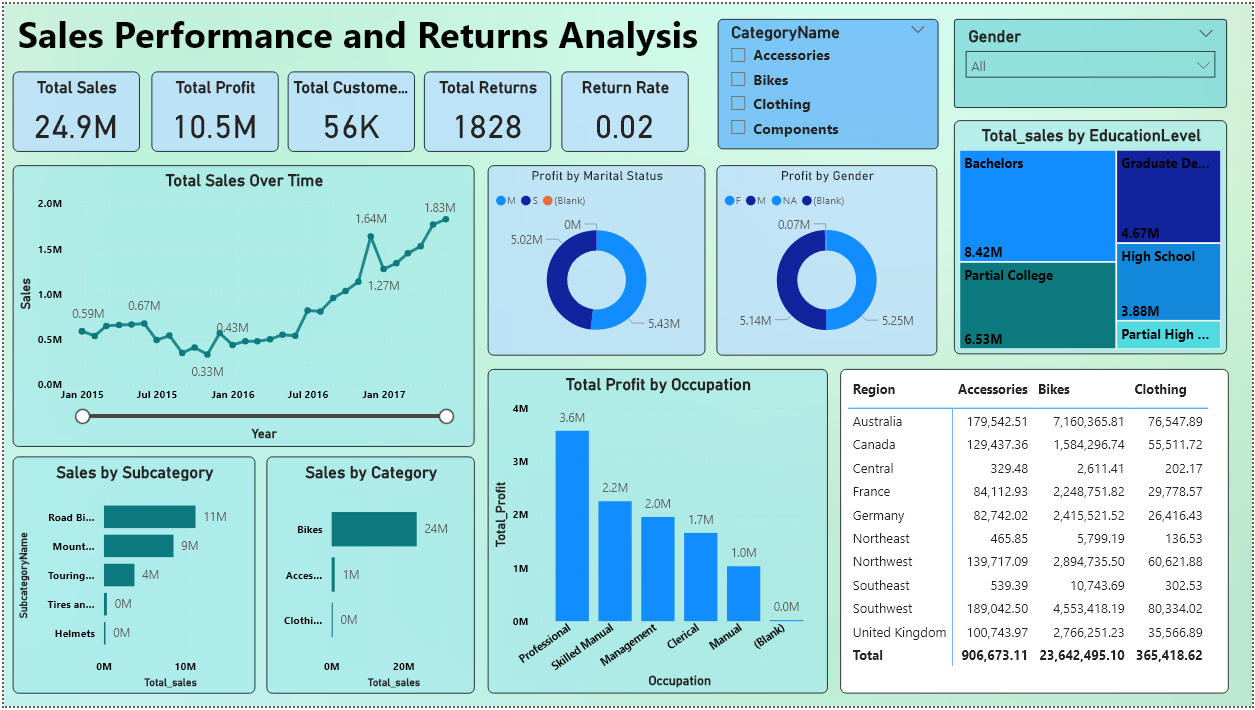

The dashboard page shown, as its layout file describes it:
{"tool":"powerbi","page":{"name":"Page 2","canvas":[1280,720],"ordinal":0},"visuals":[{"type":"card","title":"Total Sales","fields":{"Values":["Sales.Total_sales"]},"box":[9.6,68.7,130,82.2],"z":0},{"type":"card","title":"Total Profit","fields":{"Values":["Sales.Total_Profit"]},"box":[151,68.7,130,82.2],"z":1000},{"type":"textbox","box":[8.6,0,735,65],"z":2000},{"type":"lineChart","title":"Total Sales Over Time","fields":{"Y":["Sales.Total_sales"],"Category":["Calendar.Date.Variation.Date Hierarchy.Year","Calendar.Date.Variation.Date Hierarchy.Quarter","Calendar.Date.Variation.Date Hierarchy.Month"]},"box":[8.5,165,473.6,288.7],"z":3000},{"type":"barChart","title":"Sales by Category","fields":{"Y":["Sales.Total_sales"],"Category":["ProductCategories.CategoryName"]},"box":[268.8,463.6,213.3,243.2],"z":4000},{"type":"clusteredBarChart","title":"Sales by Subcategory","fields":{"Category":["ProductSubcategories.SubcategoryName"],"Y":["Sales.Total_sales"]},"box":[8.5,463.6,248.9,243.2],"z":5000},{"type":"donutChart","title":"Profit by Gender","fields":{"Category":["Customers.Gender"],"Y":["Sales.Total_Profit"]},"box":[731,165,226.1,194.8],"z":6000},{"type":"donutChart","title":"Profit by Marital Status","fields":{"Category":["Customers.MaritalStatus"],"Y":["Sales.Total_Profit"]},"box":[496.4,165,223.3,194.8],"z":7000},{"type":"columnChart","title":"Total Profit by Occupation","fields":{"Category":["Customers.Occupation"],"Y":["Sales.Total_Profit"]},"box":[496.4,374,348.4,332.8],"z":8000},{"type":"treemap","fields":{"Group":["Customers.EducationLevel"],"Values":["Sales.Total_sales"]},"box":[974.2,119.5,280.2,240.4],"z":9000},{"type":"pivotTable","fields":{"Values":["Sales.Total_sales"],"Rows":["Territories.Region"],"Columns":["ProductCategories.CategoryName"]},"box":[857.6,374,398.2,332.8],"z":10000},{"type":"slicer","fields":{"Values":["Customers.Gender"]},"box":[974.2,15.6,280.2,91],"z":11000},{"type":"slicer","fields":{"Values":["ProductCategories.CategoryName"]},"box":[732.4,15.6,226.1,133.7],"z":12000},{"type":"card","title":"Total Customers","fields":{"Values":["CountNonNull(Sales.CustomerKey)"]},"box":[291.2,68.7,130,82.2],"z":13000},{"type":"card","title":"Total Returns","fields":{"Values":["Sum(Returns.ReturnQuantity)"]},"box":[431.4,68.7,130,82.2],"z":14000},{"type":"card","title":"Return Rate","fields":{"Values":["Returns.Return_Rate"]},"box":[571.5,68.7,130,82.2],"z":15000}]}

Visuals, with their boxes in screenshot pixels (x1, y1, x2, y2), scaled from the page's 1280x720 canvas onto the 1255x710 screenshot:
"Total Sales" card: bbox=[9, 68, 137, 149]
"Total Profit" card: bbox=[148, 68, 276, 149]
textbox: bbox=[8, 0, 729, 64]
"Total Sales Over Time" lineChart: bbox=[8, 163, 473, 447]
"Sales by Category" barChart: bbox=[264, 457, 473, 697]
"Sales by Subcategory" clusteredBarChart: bbox=[8, 457, 252, 697]
"Profit by Gender" donutChart: bbox=[717, 163, 938, 355]
"Profit by Marital Status" donutChart: bbox=[487, 163, 706, 355]
"Total Profit by Occupation" columnChart: bbox=[487, 369, 828, 697]
treemap - Customers.EducationLevel x Sales.Total_sales: bbox=[955, 118, 1230, 355]
pivotTable - Sales.Total_sales x Territories.Region: bbox=[841, 369, 1231, 697]
slicer - Customers.Gender: bbox=[955, 15, 1230, 105]
slicer - ProductCategories.CategoryName: bbox=[718, 15, 940, 147]
"Total Customers" card: bbox=[286, 68, 413, 149]
"Total Returns" card: bbox=[423, 68, 550, 149]
"Return Rate" card: bbox=[560, 68, 688, 149]
